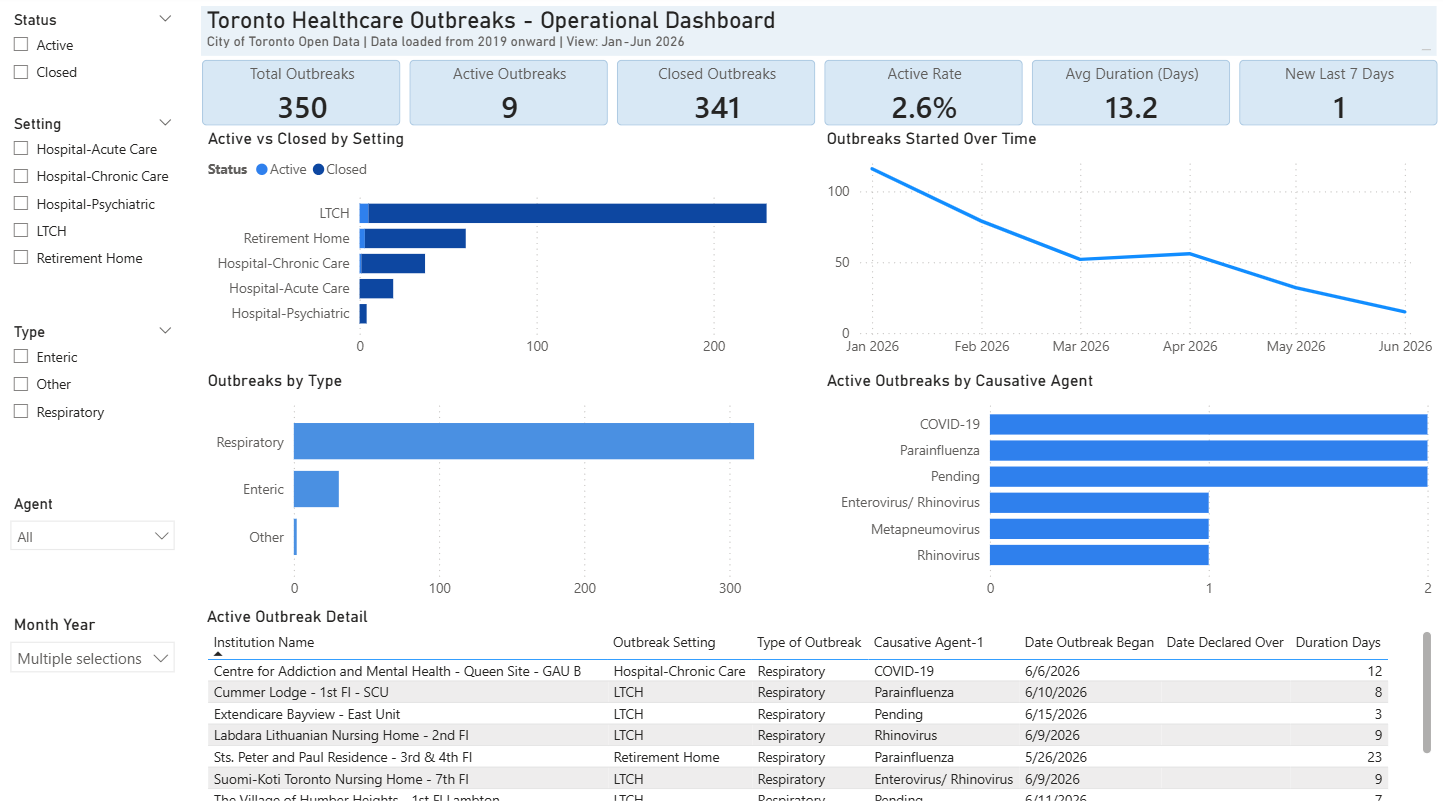

The page's visual inventory and layout, read from the dashboard file:
{"tool":"powerbi","page":{"name":"Operational Outbreak","canvas":[1280,720],"ordinal":0},"visuals":[{"type":"slicer","fields":{"Values":["ob_report_2026.Status"]},"box":[0,8.8,165.5,88.8],"z":0},{"type":"slicer","fields":{"Values":["ob_report_2026.Outbreak Setting"]},"box":[0,100.8,165.5,167.7],"z":1000},{"type":"slicer","fields":{"Values":["ob_report_2026.Type of Outbreak"]},"box":[0,283.8,165.5,130.4],"z":2000},{"type":"slicer","fields":{"Values":["ob_report_2026.Causative Agent-1"]},"box":[0,436.2,165.5,80],"z":3000},{"type":"slicer","fields":{"Values":["Calendar.Month Year"]},"box":[0,541.4,165.5,80],"z":4000},{"type":"cardVisual","fields":{"Data":["_Measures.Total Outbreaks","_Measures.Active Outbreaks","_Measures.Closed Outbreaks","_Measures.Active Rate","_Measures.Average Duration","_Measures.New Outbreaks Last 7 Days"]},"box":[179.1,50.1,1091.2,70.6],"z":5000},{"type":"barChart","title":"Active vs Closed by Setting","fields":{"Category":["ob_report_2026.Outbreak Setting"],"Y":["_Measures.Total Outbreaks"],"Series":["ob_report_2026.Status"]},"box":[179.1,117.1,544.3,210],"z":6000},{"type":"lineChart","title":"Outbreaks Started Over Time","fields":{"Category":["Calendar.Start of Month"],"Y":["_Measures.Total Outbreaks"]},"box":[725.1,117.1,544,210],"z":7000},{"type":"clusteredBarChart","title":"Outbreaks by Type","fields":{"Category":["ob_report_2026.Type of Outbreak"],"Y":["_Measures.Total Outbreaks"]},"box":[179.1,331.1,544.3,210],"z":8000},{"type":"barChart","title":"Active Outbreaks by Causative Agent","fields":{"Category":["ob_report_2026.Causative Agent-1"],"Y":["_Measures.Active Outbreaks"]},"box":[725.1,331.1,544,210],"z":9000},{"type":"tableEx","title":"Active Outbreak Detail","fields":{"Values":["ob_report_2026.Institution Name","ob_report_2026.Outbreak Setting","ob_report_2026.Type of Outbreak","ob_report_2026.Causative Agent-1","ob_report_2026.Date Outbreak Began","ob_report_2026.Date Declared Over","Sum(ob_report_2026.Duration Days)"]},"box":[178.2,539,1091.2,176.4],"z":10000},{"type":"textbox","title":"Toronto Healthcare Outbreaks - Operational Dashboard","box":[178.6,8.8,1090.4,43.8],"z":11000}]}

Visuals, with their boxes on the page's 1280x720 design canvas (x1, y1, x2, y2). These are canvas units, not pixel positions in the 1443x804 screenshot, which may show the page scaled, cropped or inside an application window:
slicer - ob_report_2026.Status: box(0, 9, 166, 98)
slicer - ob_report_2026.Outbreak Setting: box(0, 101, 166, 268)
slicer - ob_report_2026.Type of Outbreak: box(0, 284, 166, 414)
slicer - ob_report_2026.Causative Agent-1: box(0, 436, 166, 516)
slicer - Calendar.Month Year: box(0, 541, 166, 621)
cardVisual - _Measures.Total Outbreaks x _Measures.Active Outbreaks: box(179, 50, 1270, 121)
"Active vs Closed by Setting" barChart: box(179, 117, 723, 327)
"Outbreaks Started Over Time" lineChart: box(725, 117, 1269, 327)
"Outbreaks by Type" clusteredBarChart: box(179, 331, 723, 541)
"Active Outbreaks by Causative Agent" barChart: box(725, 331, 1269, 541)
"Active Outbreak Detail" tableEx: box(178, 539, 1269, 715)
"Toronto Healthcare Outbreaks - Operational Dashboard" textbox: box(179, 9, 1269, 53)
